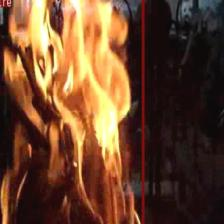fire: (0, 0, 144, 224)
